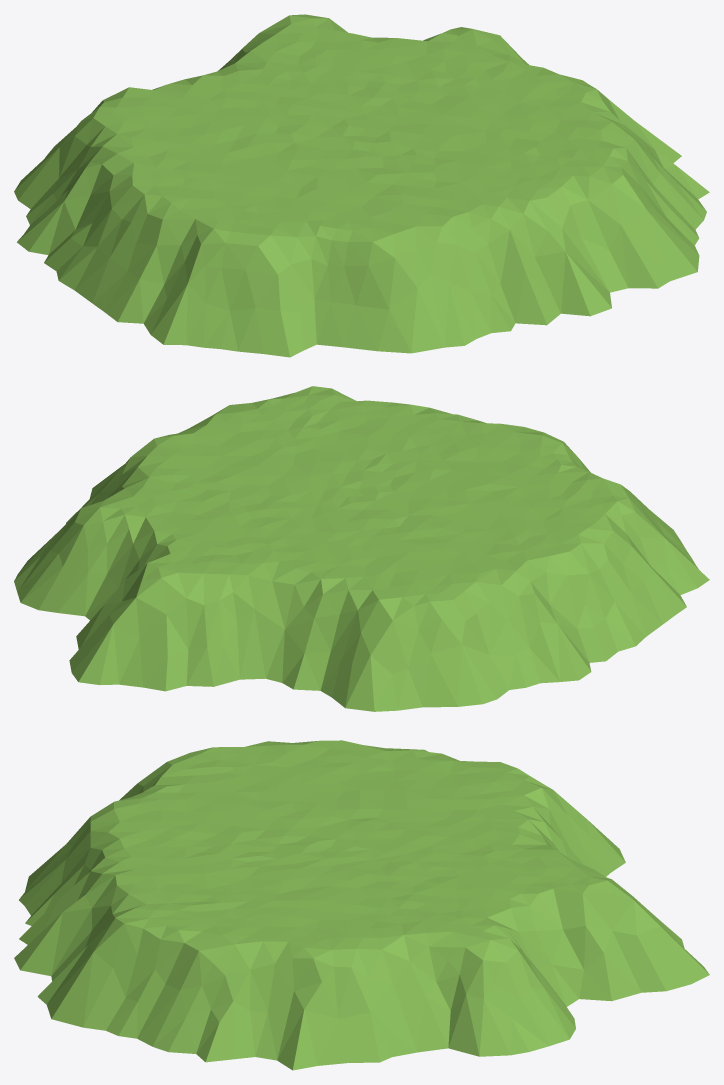
Rendered from MT_Island_L_a_05_LOD.fbx.
The picture shows the model from 3 angles, top to bottom: view 1: azimuth 30°, elevation 25°; view 2: azimuth 150°, elevation 25°; view 3: azimuth 270°, elevation 25°; orthographic projection. The views are drawn at different scales.
Parts seen in each view (by area): view 1: MT_Island_L_a_05_LOD0; view 2: MT_Island_L_a_05_LOD0; view 3: MT_Island_L_a_05_LOD0.
Boxes of the visible parts, left/top/right/bottom form: MT_Island_L_a_05_LOD0: left=14, top=14, right=709, bottom=357; MT_Island_L_a_05_LOD0: left=14, top=386, right=709, bottom=711; MT_Island_L_a_05_LOD0: left=14, top=740, right=709, bottom=1070.
Size of what is drawn, in the model's own units: 9011 by 1184 by 9281.
